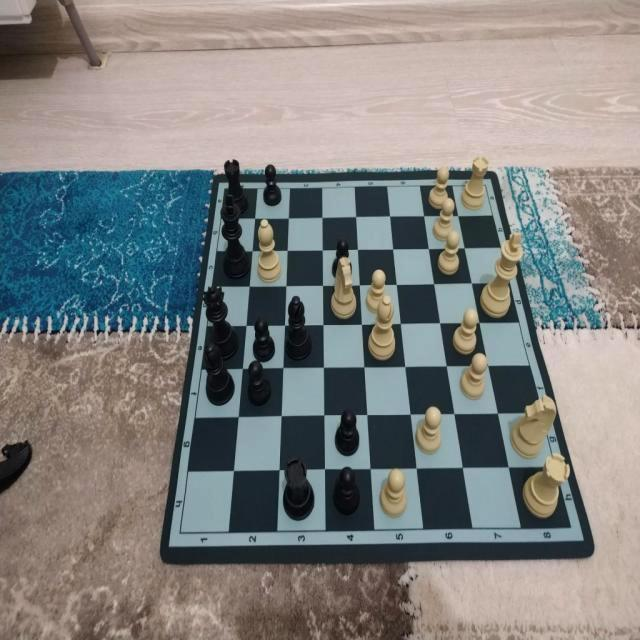chess-table-corners: (560, 518, 578, 538), (172, 522, 188, 542), (478, 177, 493, 196), (217, 182, 233, 197)
